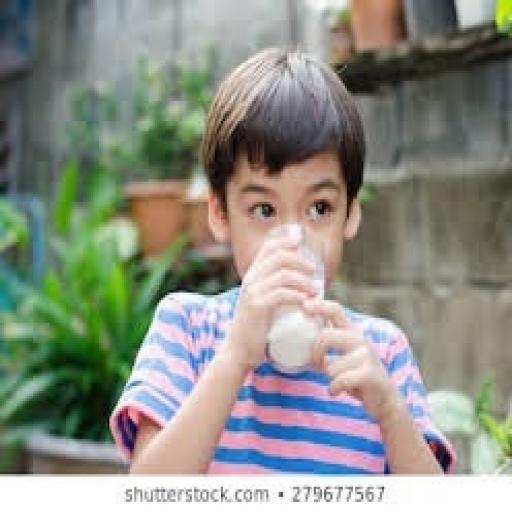drinking: (264, 222, 326, 368)
